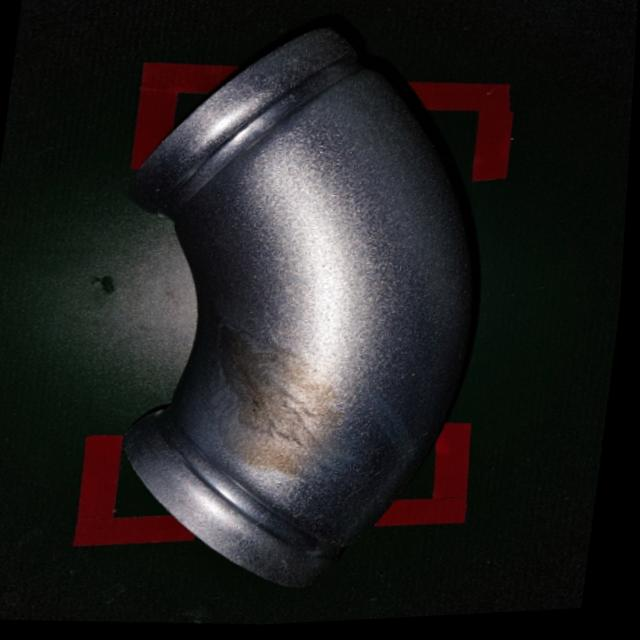Burn: (185, 314, 392, 477)
Defect: (68, 0, 523, 625)
